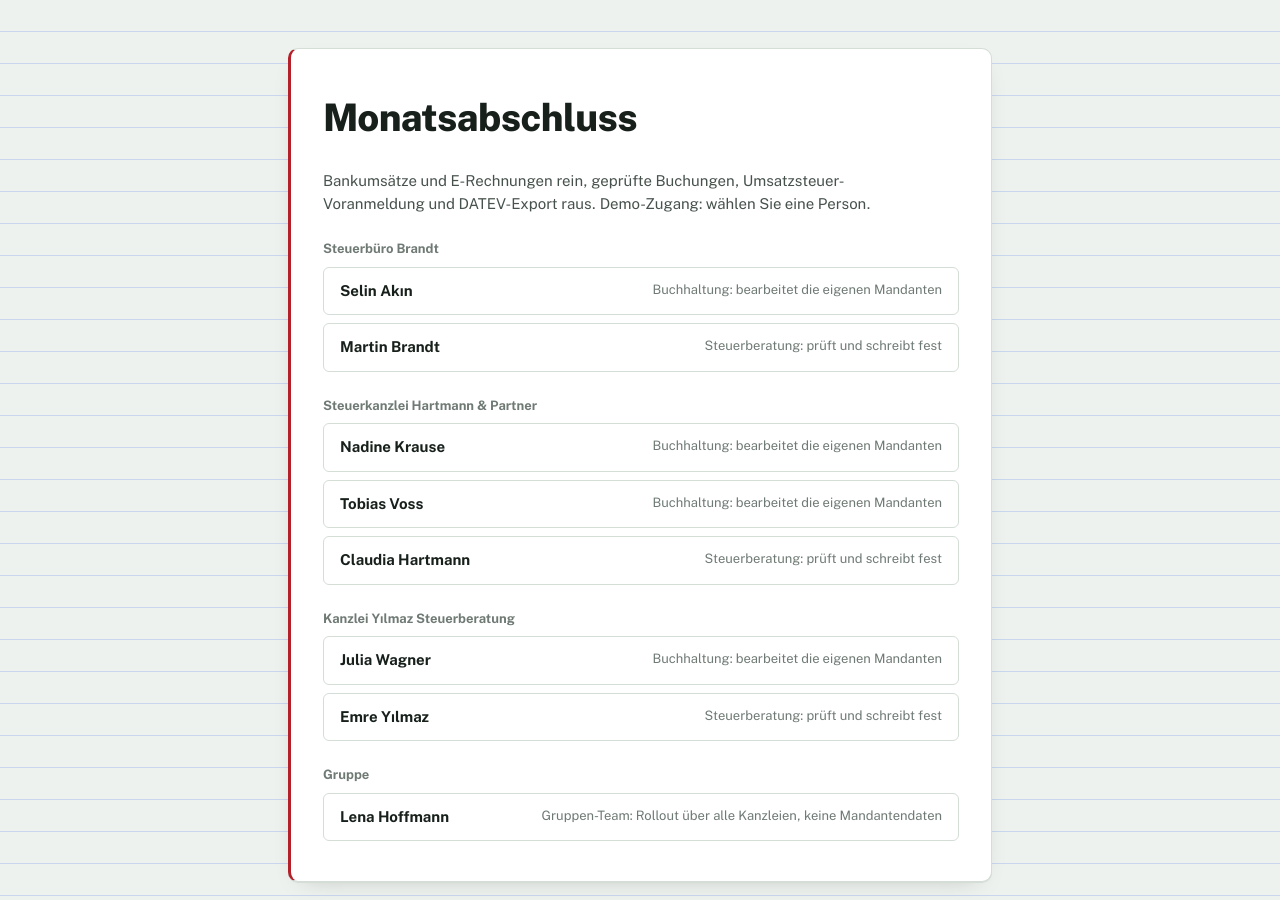
Test: signing in › the group engineer lands on the rollout, which has no client data
Click the button "Lena Hoffmann": (641, 817) x1=323 y1=792 x2=959 y2=841
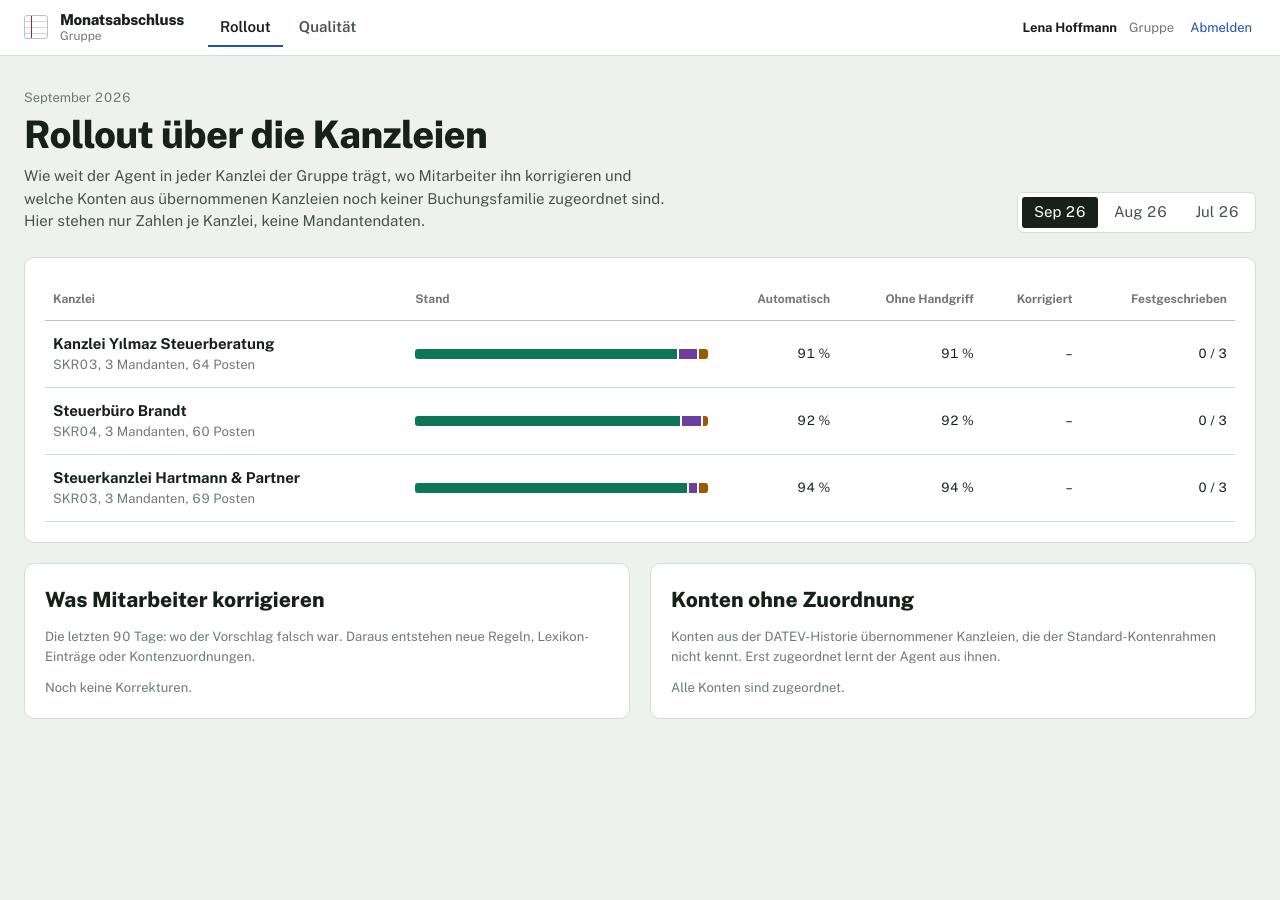
Expected: the heading "Rollout über die Kanzleien" is shown, x1=24 y1=112 x2=487 y2=156
